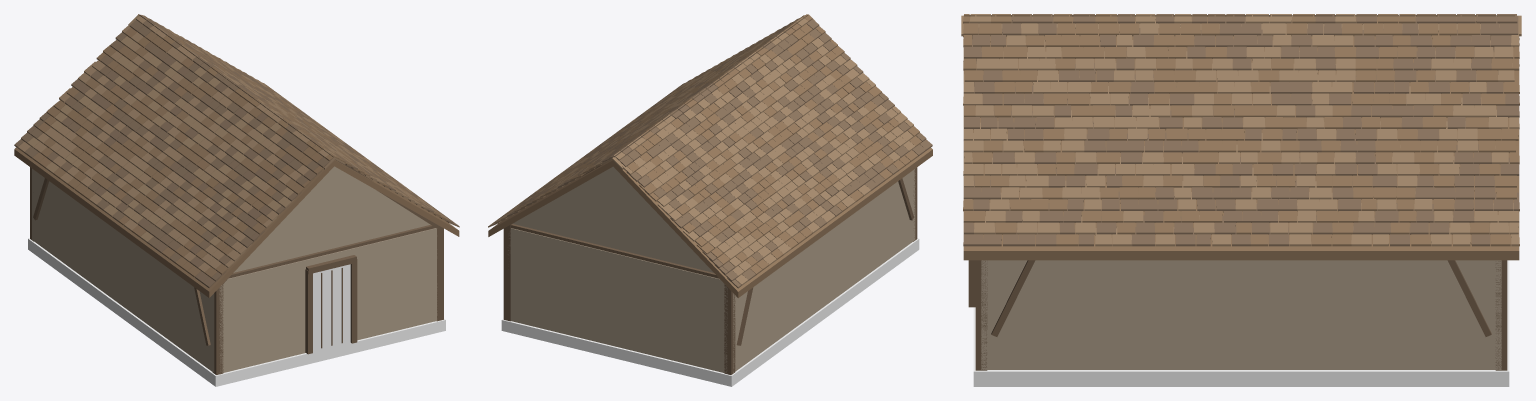
File: oak_reference_A.glb
3 views of the same model, side by side, from view 1: azimuth 30°, elevation 25°; view 2: azimuth 150°, elevation 25°; view 3: azimuth 270°, elevation 25° (orthographic). The views are drawn at different scales.
Parts seen in each view (by area): view 1: 09A_ShingleField.003, 08A_SideClay.006, 08A_GableClay.006, 08A_FrontClay.006, 08A_FrontClay.007, 08A_Sill.003, 09A_Deck.006, 08A_Door.003, 09A_Deck.007, 08A_EndWallPlate.006, 08A_CornerPost.012, 08A_DoorJamb.006 (+3 smaller); view 2: 09A_ShingleField.003, 08A_RearClay.003, 08A_SideClay.006, 08A_GableClay.007, 08A_Sill.003, 09A_Deck.006, 09A_Deck.007, 08A_EndWallPlate.007, 08A_CornerPost.013, 08A_CornerPost.015; view 3: 09A_ShingleField.003, 08A_SideClay.007, 09A_Deck.007, 08A_Sill.003, 08A_CornerPost.014, 08A_CornerPost.015, 08A_SideBrace.014, 08A_SideBrace.015.
Boxes of the visible parts, <box> form: 09A_ShingleField.003: <box>14,14,459,287</box>; 08A_SideClay.006: <box>32,168,214,372</box>; 08A_GableClay.006: <box>233,166,430,272</box>; 08A_FrontClay.006: <box>219,259,310,372</box>; 08A_FrontClay.007: <box>350,228,437,340</box>; 08A_Sill.003: <box>28,238,445,386</box>; 09A_Deck.006: <box>14,147,334,297</box>; 08A_Door.003: <box>313,264,350,352</box>; 09A_Deck.007: <box>334,160,459,236</box>; 08A_EndWallPlate.006: <box>228,225,435,278</box>; 08A_CornerPost.012: <box>212,284,223,374</box>; 08A_DoorJamb.006: <box>305,269,312,354</box>; 09A_ShingleField.003: <box>488,14,932,288</box>; 08A_RearClay.003: <box>508,228,727,373</box>; 08A_SideClay.006: <box>733,169,915,372</box>; 08A_GableClay.007: <box>513,166,713,272</box>; 08A_Sill.003: <box>501,238,919,386</box>; 09A_Deck.006: <box>613,148,932,297</box>; 09A_Deck.007: <box>488,159,613,236</box>; 08A_EndWallPlate.007: <box>511,224,719,278</box>; 08A_CornerPost.013: <box>724,284,735,374</box>; 08A_CornerPost.015: <box>503,223,512,321</box>; 09A_ShingleField.003: <box>963,14,1519,246</box>; 08A_SideClay.007: <box>981,260,1501,369</box>; 09A_Deck.007: <box>963,36,1519,260</box>; 08A_Sill.003: <box>973,260,1509,386</box>; 08A_CornerPost.014: <box>975,260,987,370</box>; 08A_CornerPost.015: <box>1495,260,1507,370</box>; 08A_SideBrace.014: <box>991,260,1035,336</box>; 08A_SideBrace.015: <box>1447,260,1491,336</box>.
Size of the model in its own units: 5.78 by 4.53 by 7.87.
